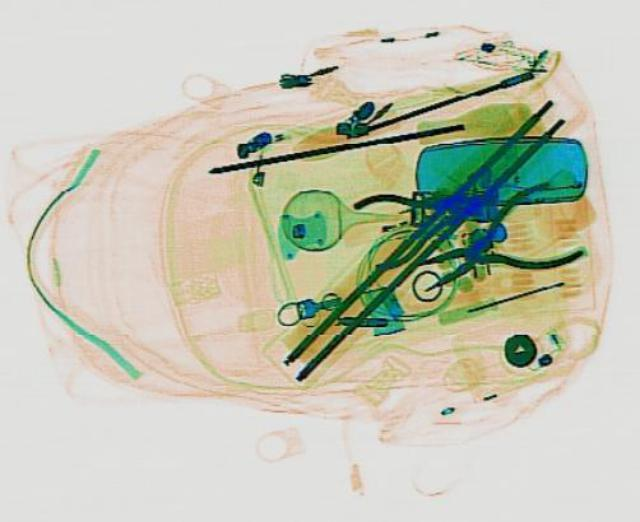Pliers: (388, 178, 584, 298), (342, 166, 508, 270)
